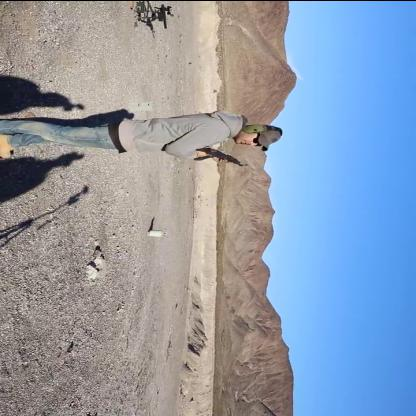long weapon: (174, 140, 248, 174)
